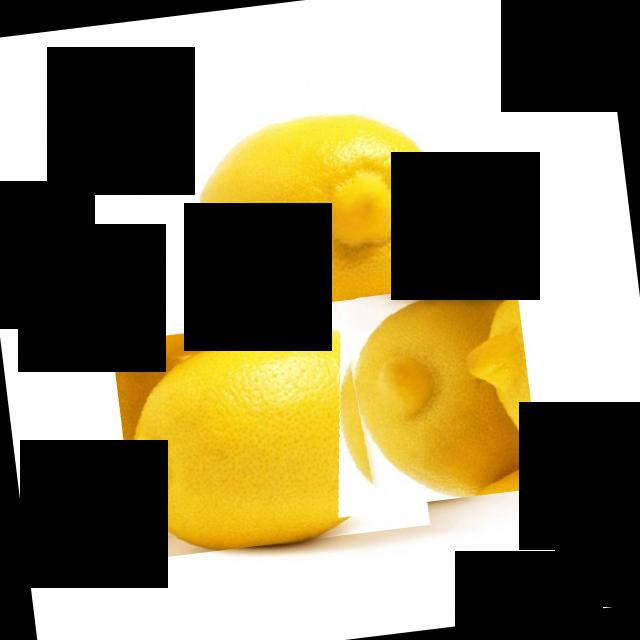lemon: (111, 306, 430, 560), (192, 104, 460, 344), (338, 282, 541, 509)
